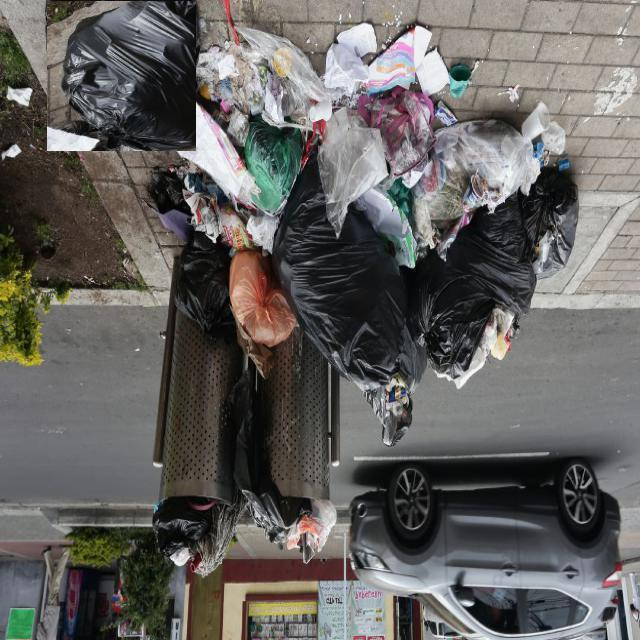Trashbag: (270, 158, 429, 450), (50, 3, 210, 168), (416, 197, 542, 379), (226, 366, 326, 566), (146, 475, 241, 581), (170, 226, 242, 348), (533, 176, 589, 278)
